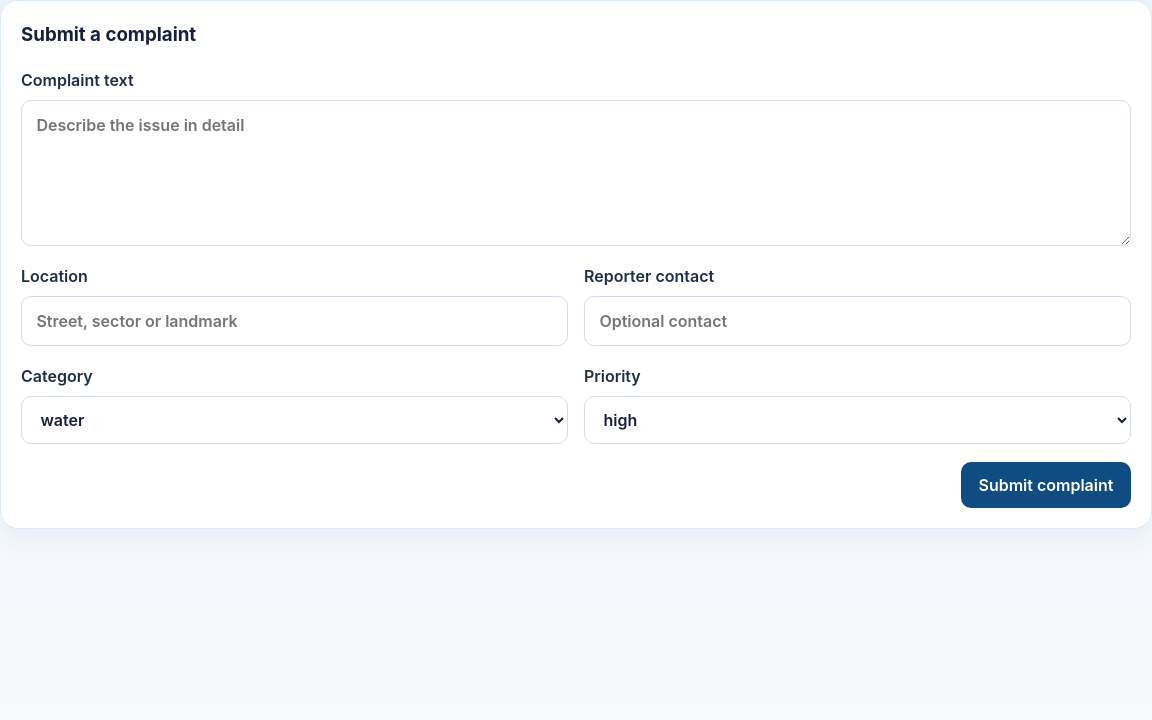
it: SubmitPage › shows validation errors for invalid form data
In the text box labelled "Complaint text": (576, 173) top-left (21, 100), bottom-right (1131, 246), type "short"
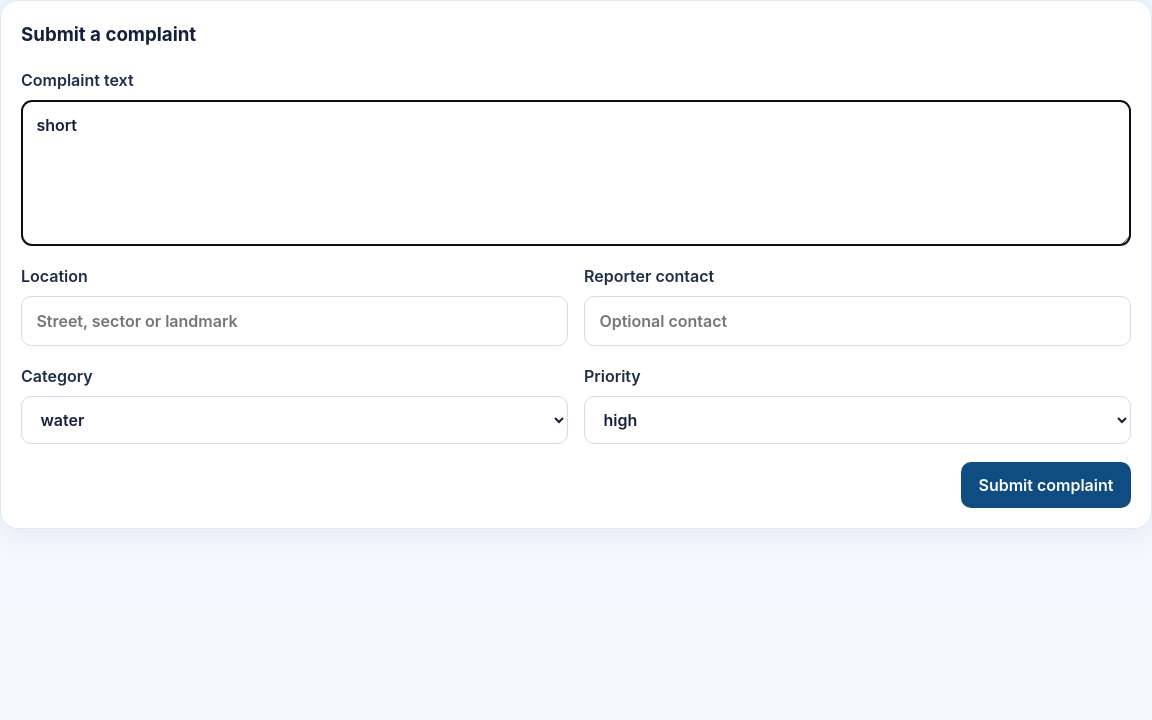
In the field labelled "Location": (294, 321) top-left (21, 296), bottom-right (568, 346), type "ab"
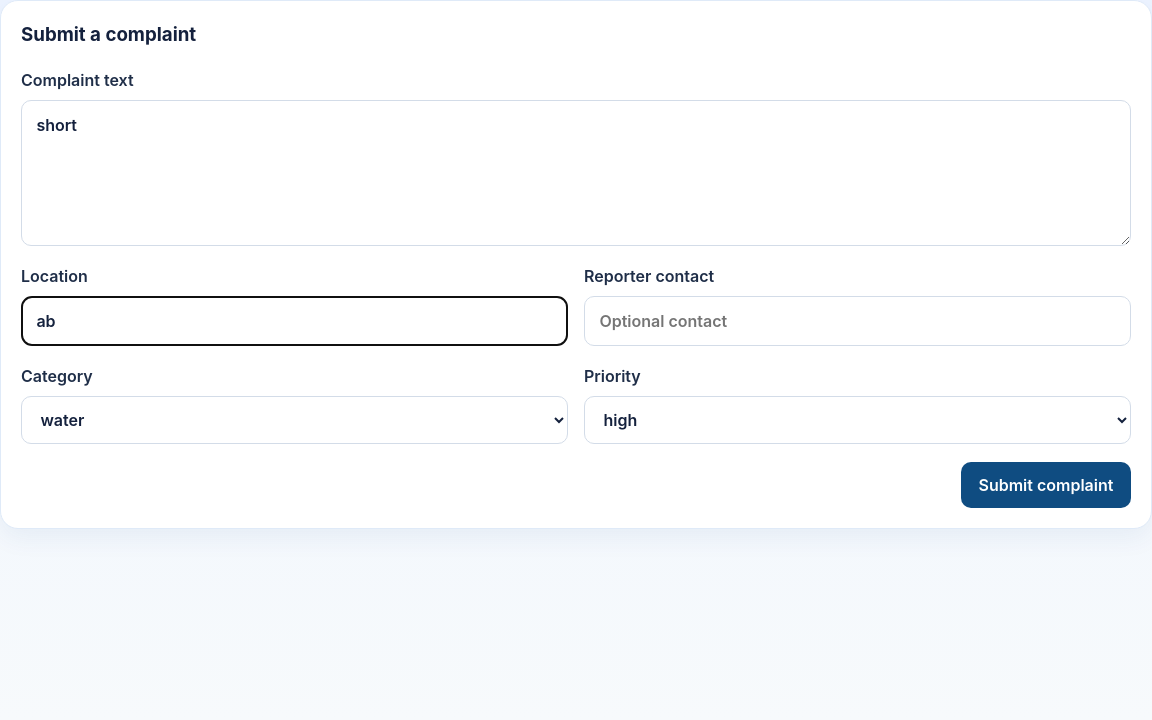
Click the button "Submit complaint": (1046, 485) top-left (961, 462), bottom-right (1131, 508)
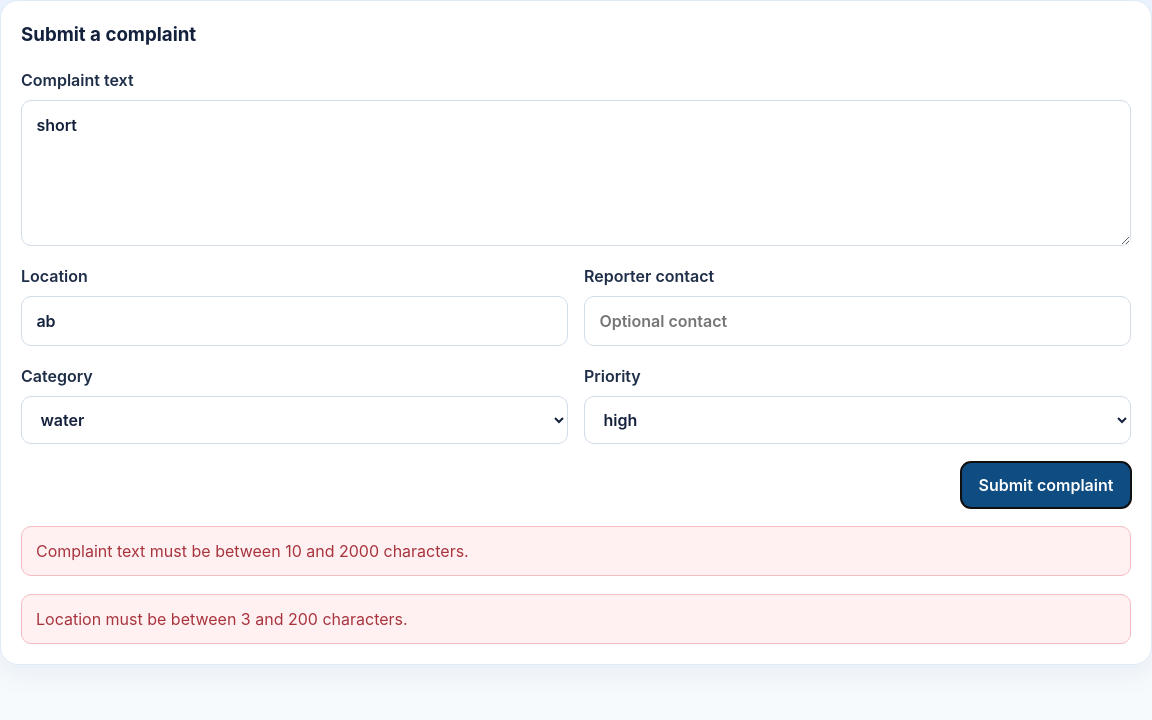
Now the text "Complaint text must be between 10 and 2000 characters." is shown, box top-left (21, 526), bottom-right (1131, 576)
Now the text "Location must be between 3 and 200 characters." is shown, box top-left (21, 594), bottom-right (1131, 644)
